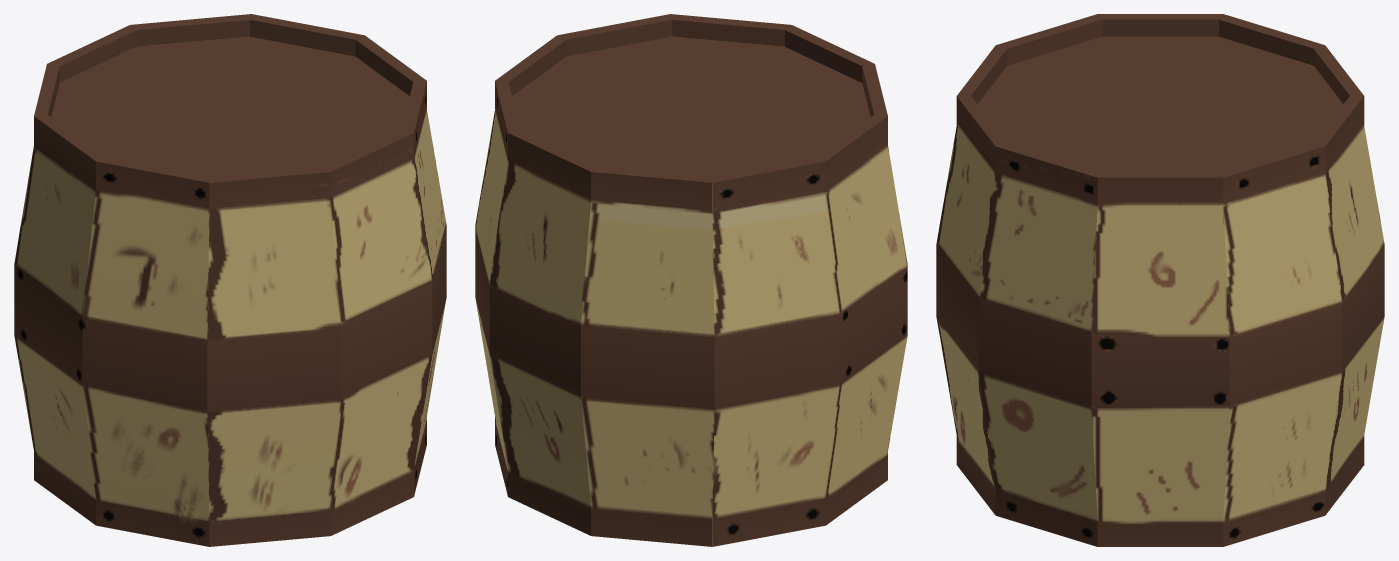
File: Bocka1.fbx
3 views of the same model, side by side, from view 1: azimuth 30°, elevation 25°; view 2: azimuth 150°, elevation 25°; view 3: azimuth 270°, elevation 25° (orthographic).
Visible parts, largest first — view 1: Цилиндр; view 2: Цилиндр; view 3: Цилиндр.
Part boxes in pixels (x1=…): Цилиндр: x1=14, y1=14, x2=446, y2=546; Цилиндр: x1=475, y1=14, x2=907, y2=546; Цилиндр: x1=936, y1=14, x2=1384, y2=546.
Size of the model in its own units: 209 by 220 by 200.
